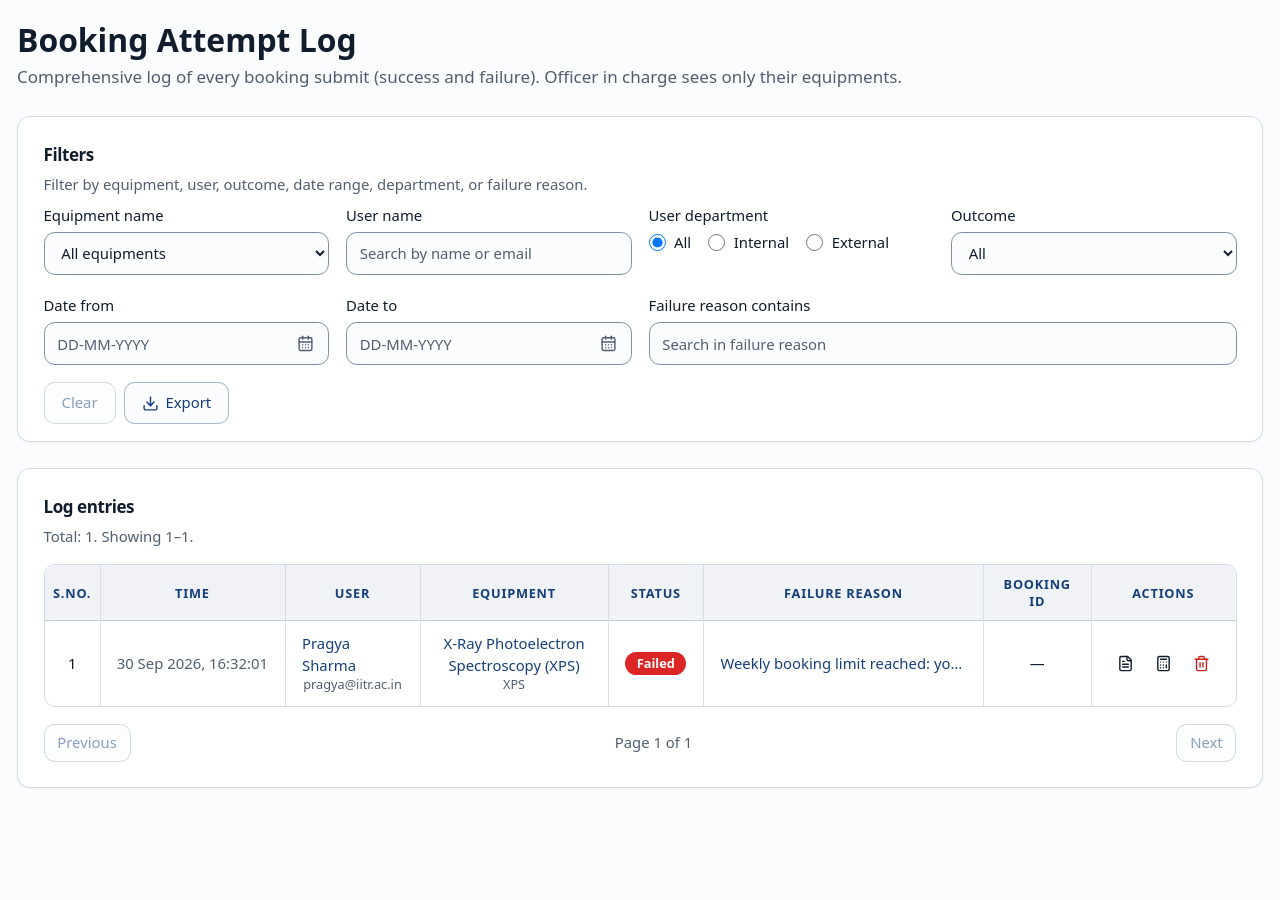
Booking Attempt Log details › keeps a details button in Actions and links the user name to their ID card
The width and height of the screenshot is (1280, 900).
Click the button named "View attempt details": (1125, 663) [1108,646,1142,680]
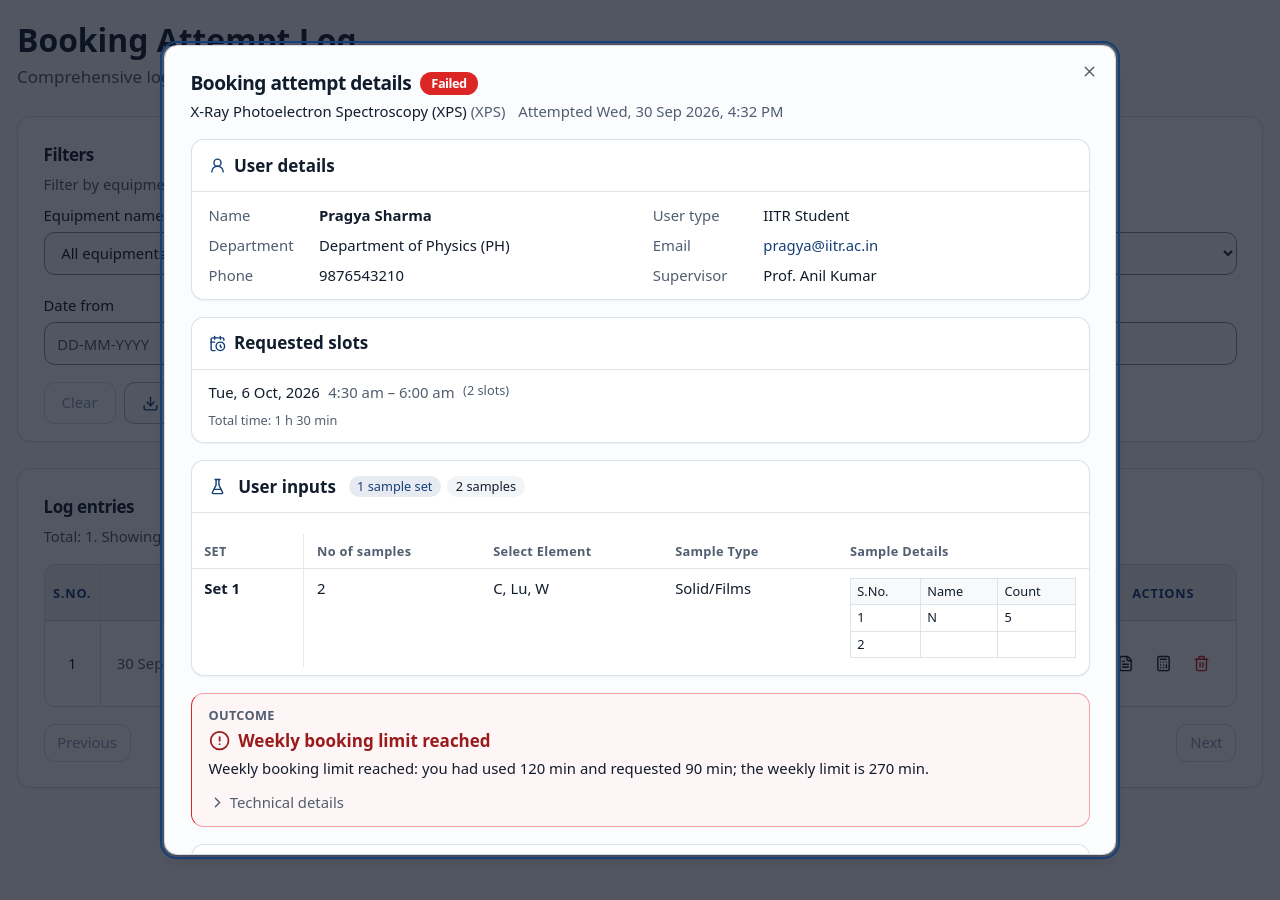
expect the dialog is shown: met
